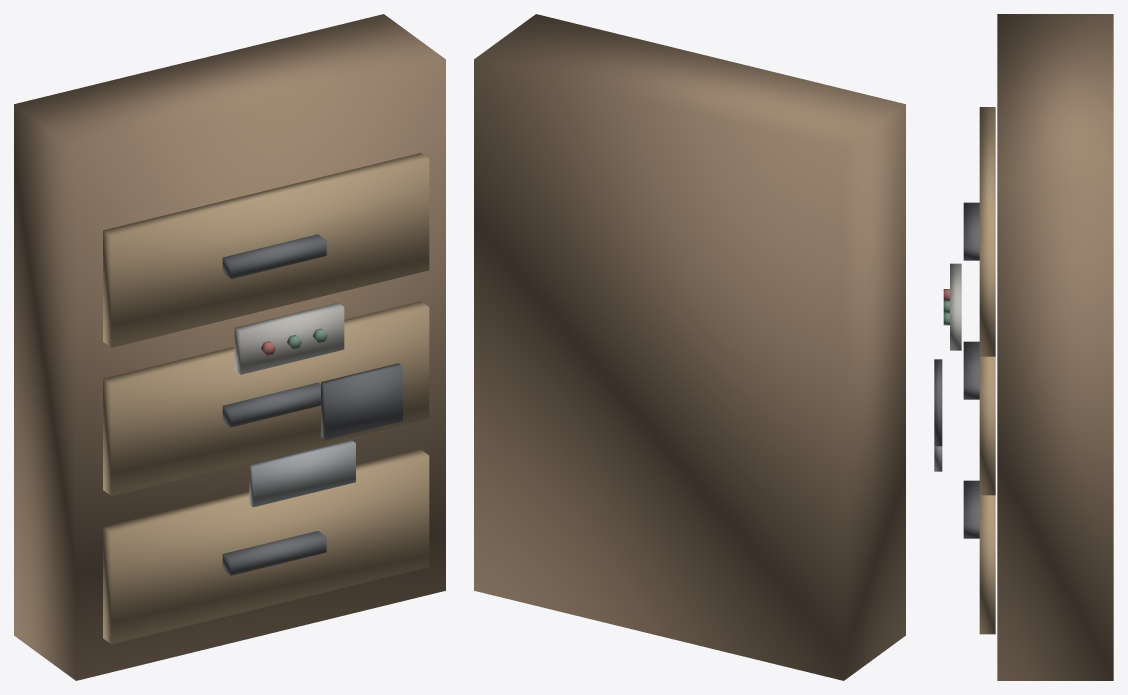
File: medicine_cabinet__weathered.glb
3 renders of one model, left to right at view 1: azimuth 30°, elevation 25°; view 2: azimuth 150°, elevation 25°; view 3: azimuth 270°, elevation 25°, orthographic. The views are drawn at different scales.
Parts seen in each view (by area): view 1: world; view 2: world; view 3: world.
Part boxes in pixels (<box>): world: <box>14,14,445,680</box>; world: <box>474,14,905,680</box>; world: <box>934,14,1113,680</box>.
Bounding box in the file's own units: 0.62 × 0.8514 × 0.2775.
